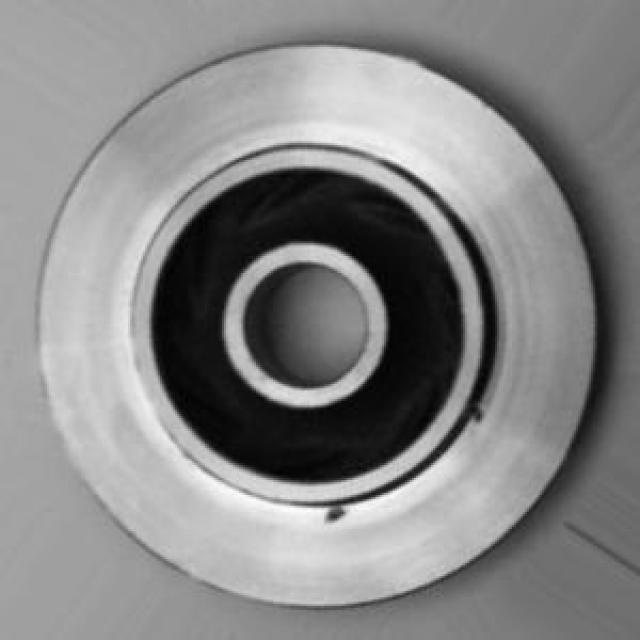Defect: (321, 500, 354, 529)
